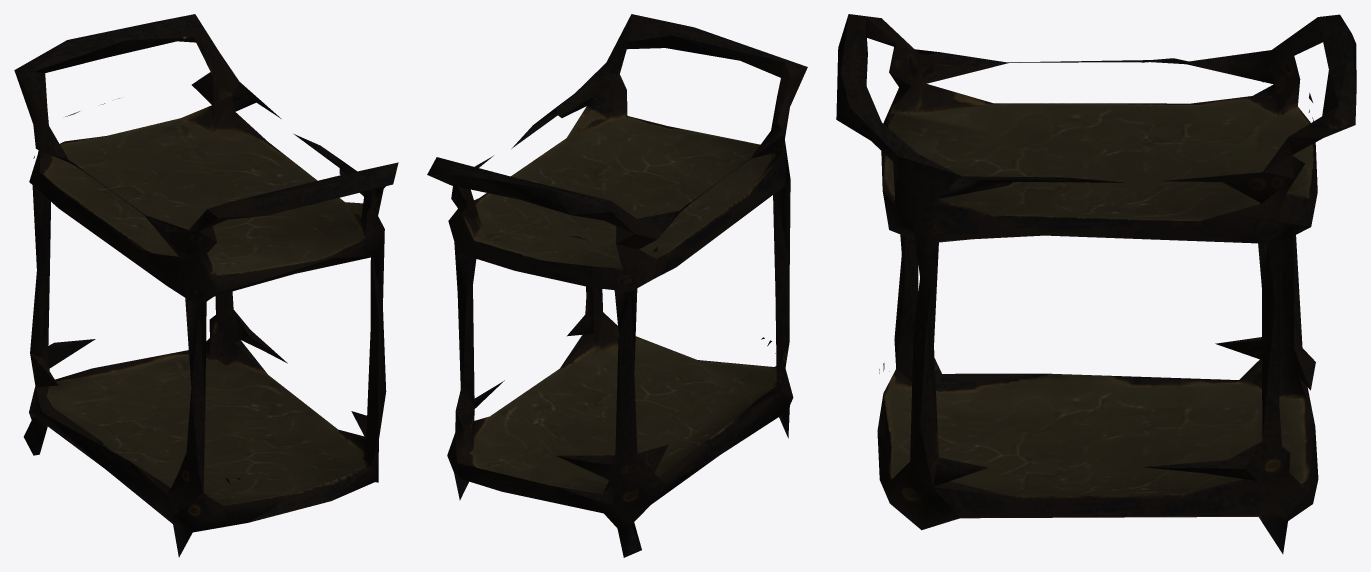
The model's file is penthouse-bar-cart.glb.
3 views of the same model, side by side, from view 1: azimuth 30°, elevation 25°; view 2: azimuth 150°, elevation 25°; view 3: azimuth 270°, elevation 25° (orthographic). The views are drawn at different scales.
Visible parts, largest first — view 1: geometry_0.001; view 2: geometry_0.001; view 3: geometry_0.001.
Boxes of the visible parts, x1=… form: geometry_0.001: x1=14, y1=14, x2=398, y2=557; geometry_0.001: x1=427, y1=14, x2=807, y2=557; geometry_0.001: x1=836, y1=14, x2=1356, y2=553.
Bounding box in the file's own units: 0.5708 × 0.9854 × 0.9984.
1 material, 1 textured.
